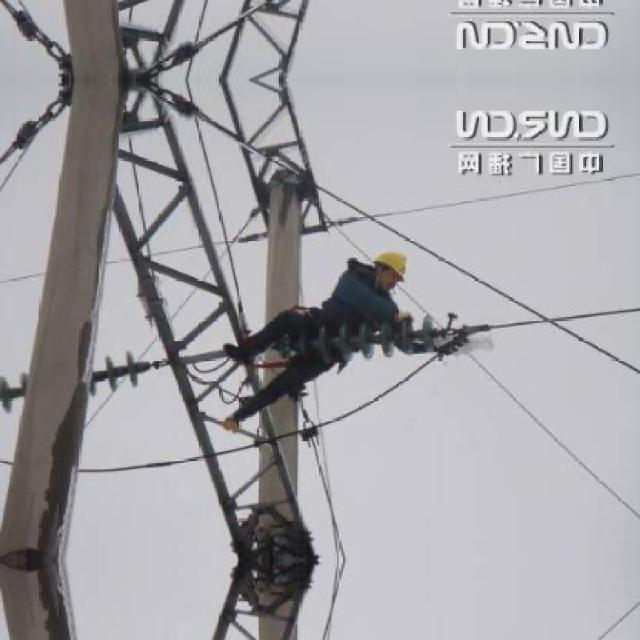con casco: (333, 243, 424, 307)
